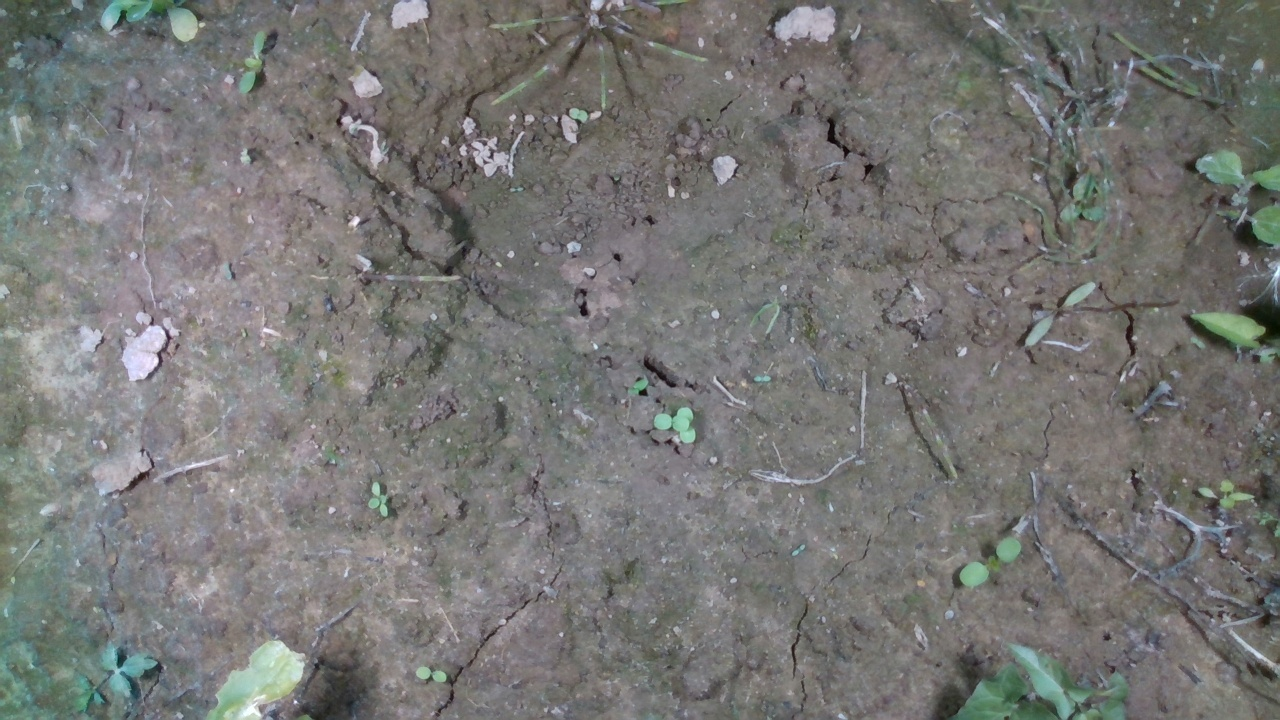weed: (956, 535, 1025, 589), (235, 30, 268, 97), (360, 478, 416, 514), (1196, 477, 1255, 510), (416, 667, 446, 685)
